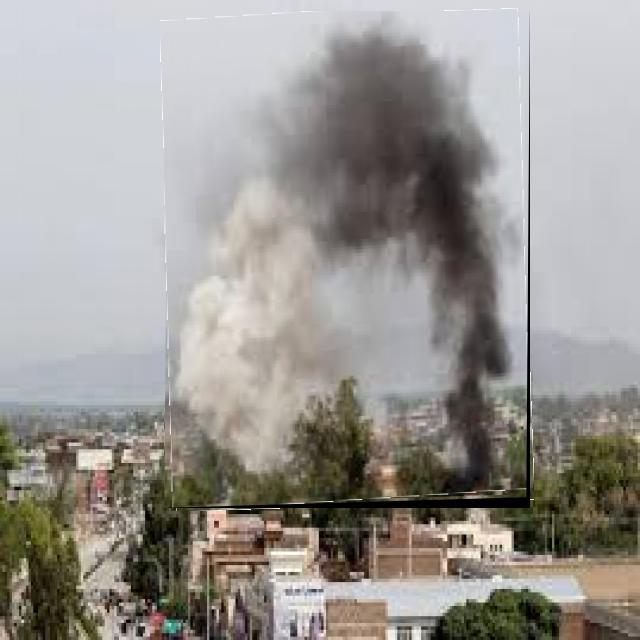smoke: (272, 22, 511, 383), (177, 184, 316, 477), (436, 394, 501, 486)
